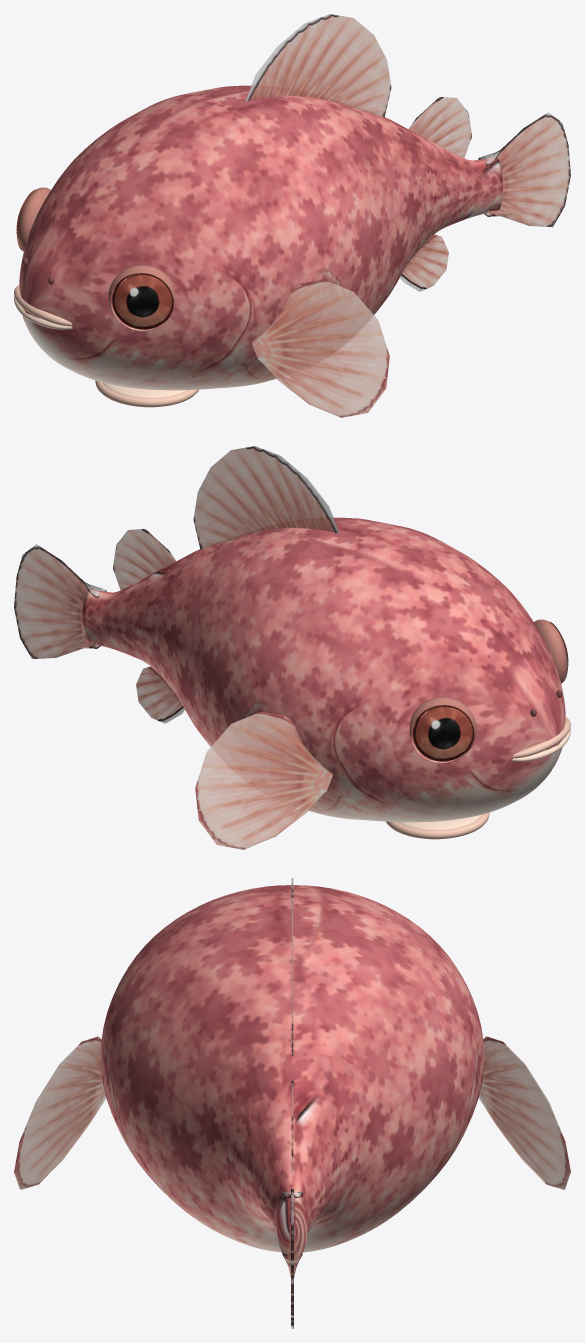
File: dangouo-pink.glb
The picture shows the model from 3 angles, top to bottom: view 1: azimuth 30°, elevation 25°; view 2: azimuth 150°, elevation 25°; view 3: azimuth 270°, elevation 25°; orthographic projection. The views are drawn at different scales.
Visible parts, largest first — view 1: Body_continuous_skin, Pectoral_right, Dorsal_1, Caudal, Eye_iris_1, Dorsal_2, Anal, Pelvic_disc_rim, Eye_globe_-1, Eye_globe_1, Pelvic_disc_dish, Mouth_upper; view 2: Body_continuous_skin, Pectoral_left, Dorsal_1, Caudal, Eye_iris_-1, Dorsal_2, Anal, Pelvic_disc_rim, Eye_globe_1, Eye_globe_-1, Pelvic_disc_dish, Mouth_upper; view 3: Body_continuous_skin, Pectoral_left, Pectoral_right, Caudal.
Boxes of the visible parts, x1,y1,x2,y2 form: Body_continuous_skin: (19,85,502,390); Pectoral_right: (252,279,389,417); Dorsal_1: (245,14,391,117); Caudal: (478,112,570,227); Eye_iris_1: (110,273,173,330); Dorsal_2: (408,97,471,158); Anal: (400,234,448,291); Pelvic_disc_rim: (95,380,198,407); Eye_globe_-1: (18,187,50,251); Eye_globe_1: (108,265,175,331); Pelvic_disc_dish: (103,382,186,398); Mouth_upper: (14,285,72,326); Body_continuous_skin: (82,517,565,822); Pectoral_left: (195,711,332,849); Dorsal_1: (193,446,339,549); Caudal: (14,544,106,659); Eye_iris_-1: (411,705,474,762); Dorsal_2: (113,529,176,590); Anal: (136,666,184,723); Pelvic_disc_rim: (386,812,489,839); Eye_globe_1: (534,619,566,683); Eye_globe_-1: (409,697,476,763); Pelvic_disc_dish: (398,814,481,830); Mouth_upper: (512,717,570,758); Body_continuous_skin: (100,885,484,1260); Pectoral_left: (478,1036,570,1189); Pectoral_right: (14,1036,106,1189); Caudal: (282,1189,302,1328).
Bounding box in the file's own units: 0.0297 × 0.0171 × 0.0224.
Materials: 2 (2 with a texture image).
